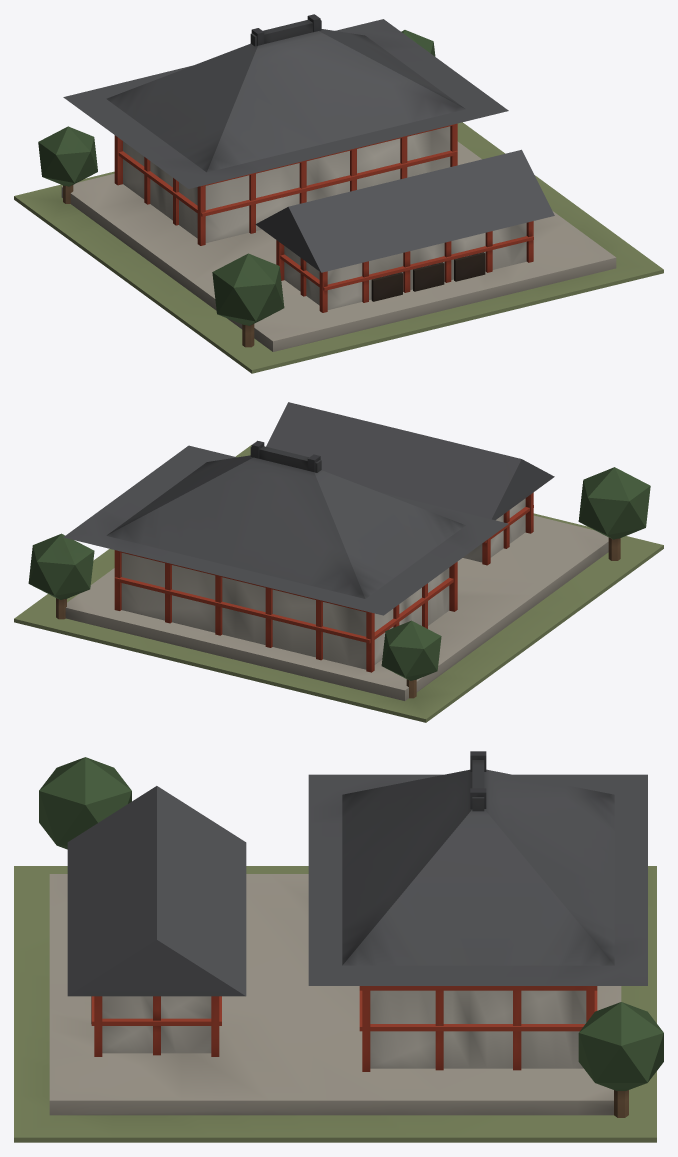
The model's file is hokkedo-752.glb.
The picture shows the model from 3 angles, top to bottom: view 1: azimuth 30°, elevation 25°; view 2: azimuth 150°, elevation 25°; view 3: azimuth 270°, elevation 25°; orthographic projection. The views are drawn at different scales.
Visible parts, largest first — view 1: p2_roofs, p0_grounds, p1_halls; view 2: p2_roofs, p0_grounds, p1_halls; view 3: p2_roofs, p0_grounds, p1_halls.
Boxes of the visible parts, x1,y1,x2,y2 form: p2_roofs: [38, 14, 554, 347]; p0_grounds: [14, 122, 663, 373]; p1_halls: [114, 123, 533, 312]; p2_roofs: [28, 402, 650, 698]; p0_grounds: [14, 445, 663, 722]; p1_halls: [114, 492, 533, 672]; p2_roofs: [39, 751, 663, 1117]; p0_grounds: [14, 866, 656, 1142]; p1_halls: [91, 986, 597, 1071].
Bounding box in the file's own units: 36.74 × 14.5 × 36.39.
